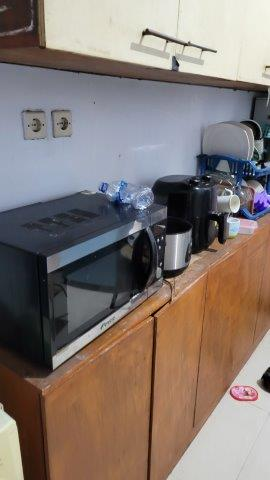botolplastik: (97, 179, 153, 206)
